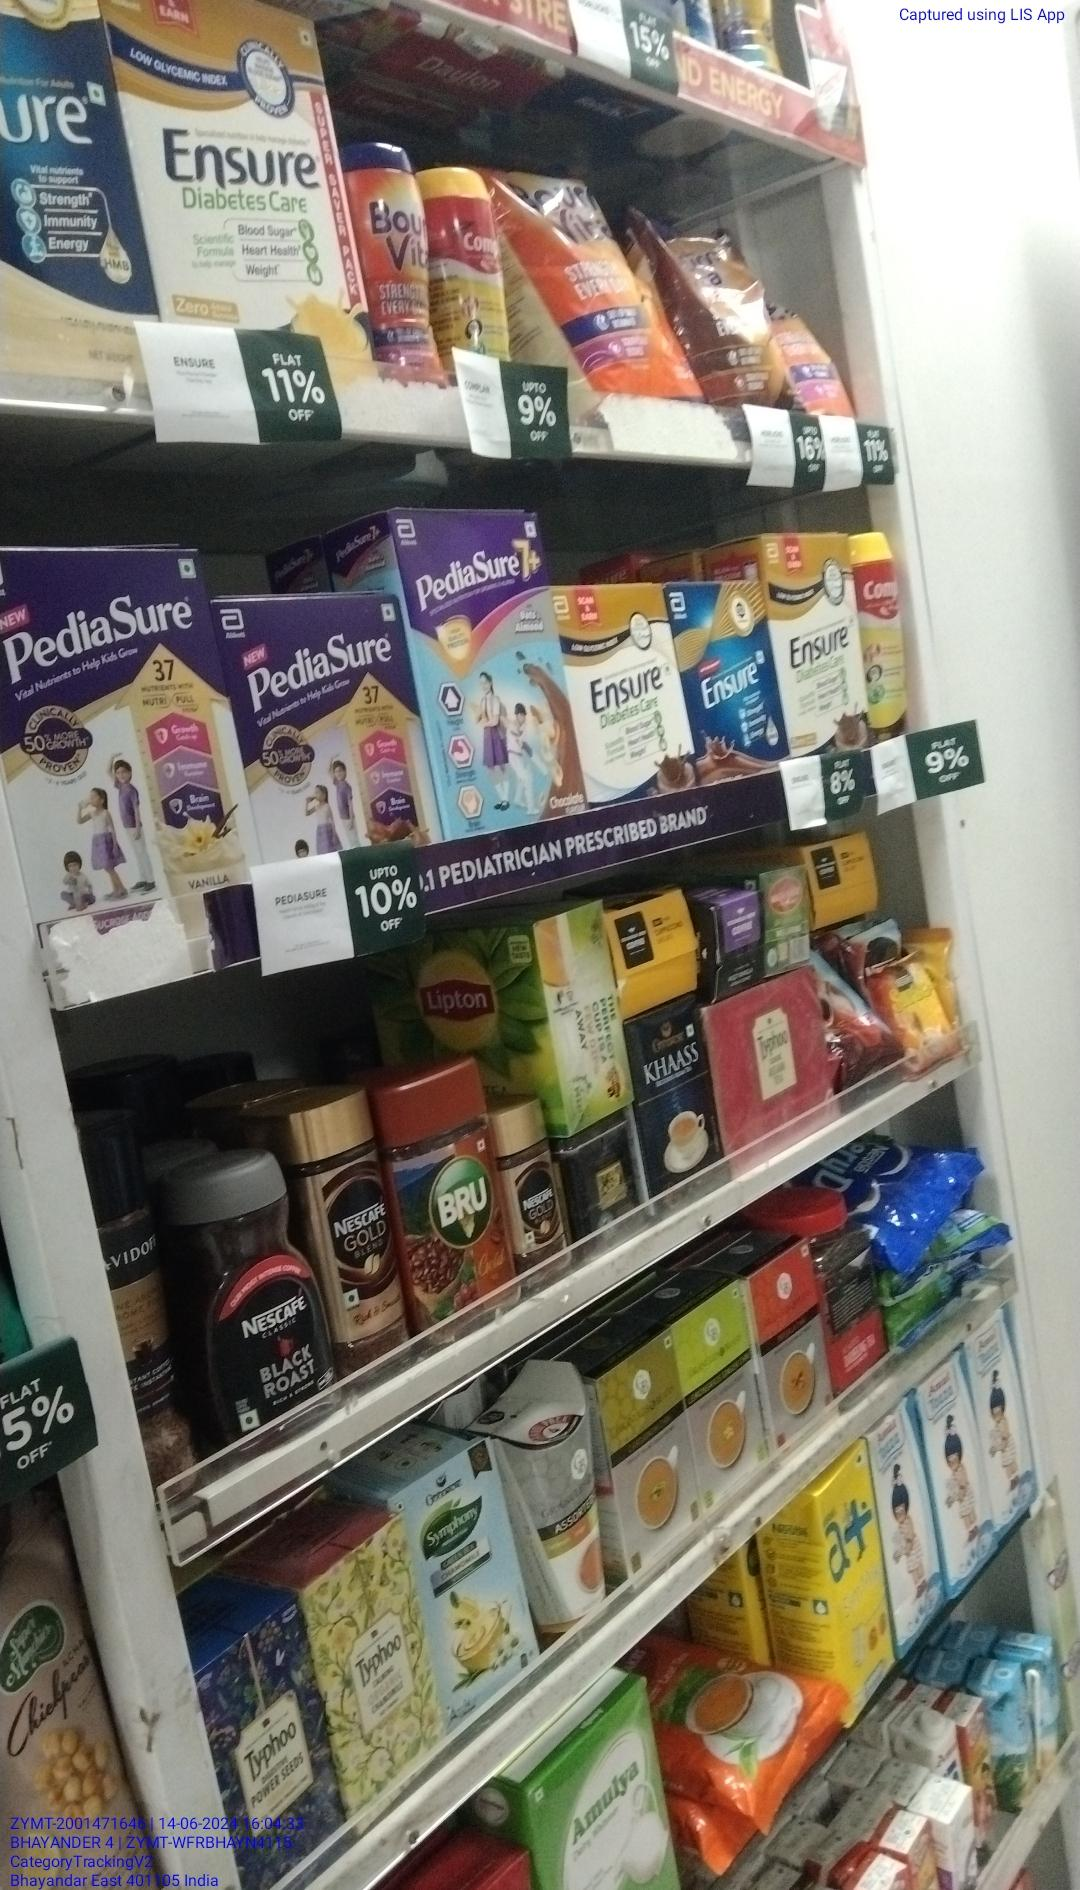BOURN_VITA_200_G_JAR: (362, 140, 437, 371)
COMPLAN_CHOCOLATE_200_GMS_JAR: (441, 165, 514, 357)
PEDIASURE_CHOCOLATE_500_G_PACK: (223, 595, 415, 858)
PEDIASURE_VANILLA_500_G_PACK: (3, 545, 222, 890)
